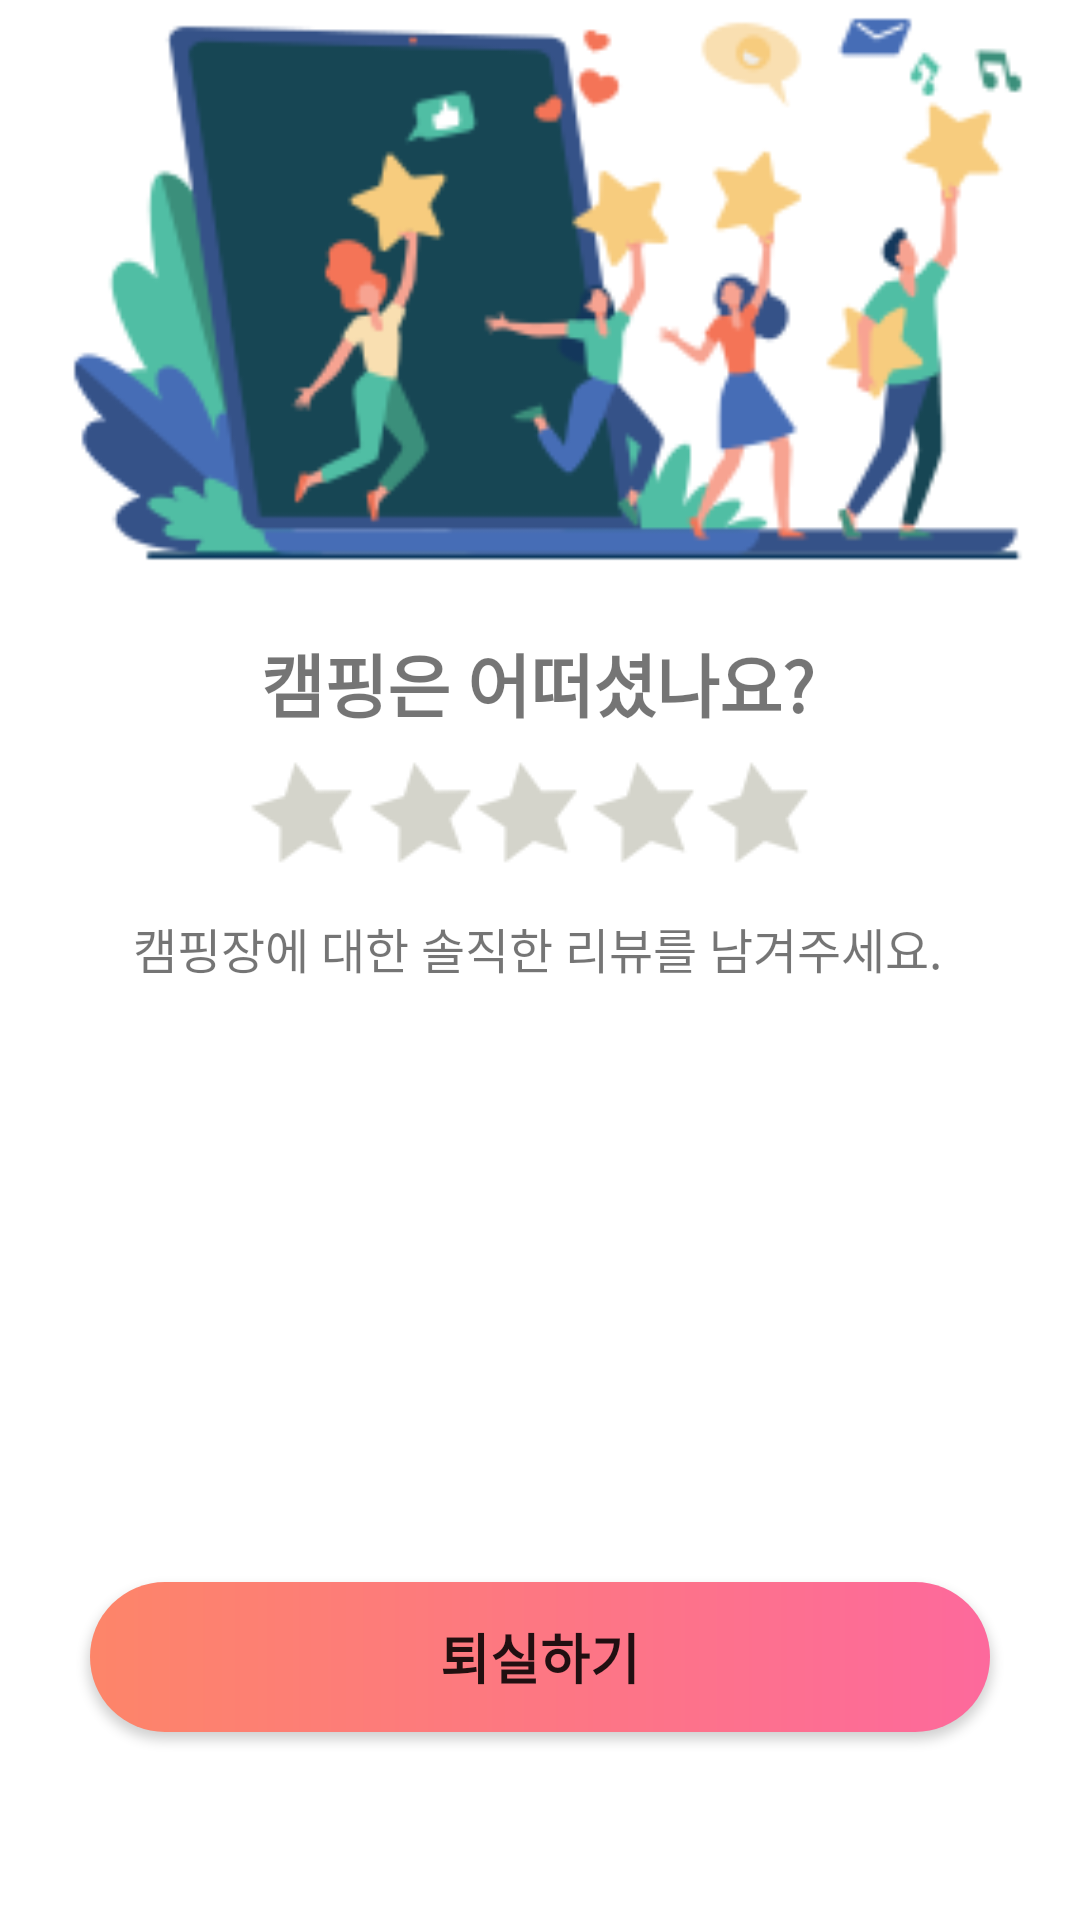

Screen size 1080 × 1920. Icon name, then its box in pixels as (x1, y1, x2, y2):
star: (253, 764, 351, 861), (372, 764, 470, 861), (478, 764, 576, 861), (595, 764, 693, 861), (709, 764, 807, 861)
